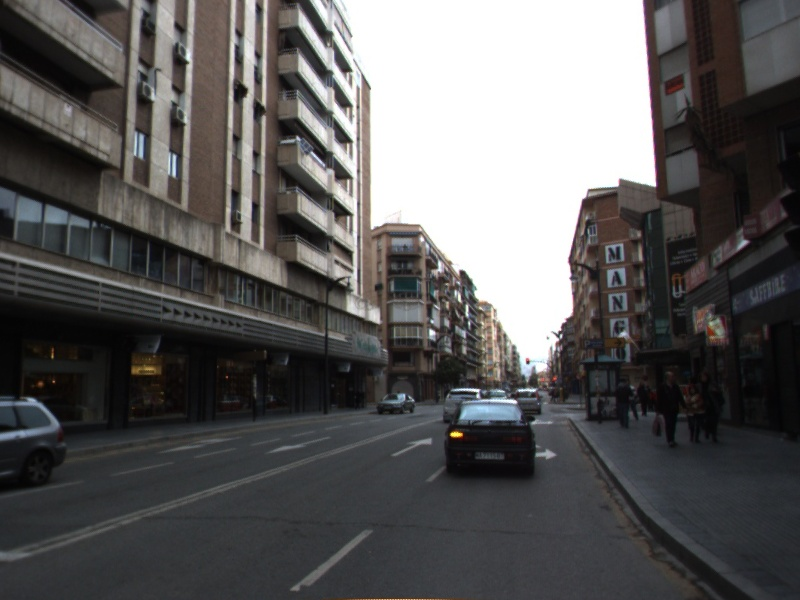STRAIGHT: (389, 436, 433, 458)
